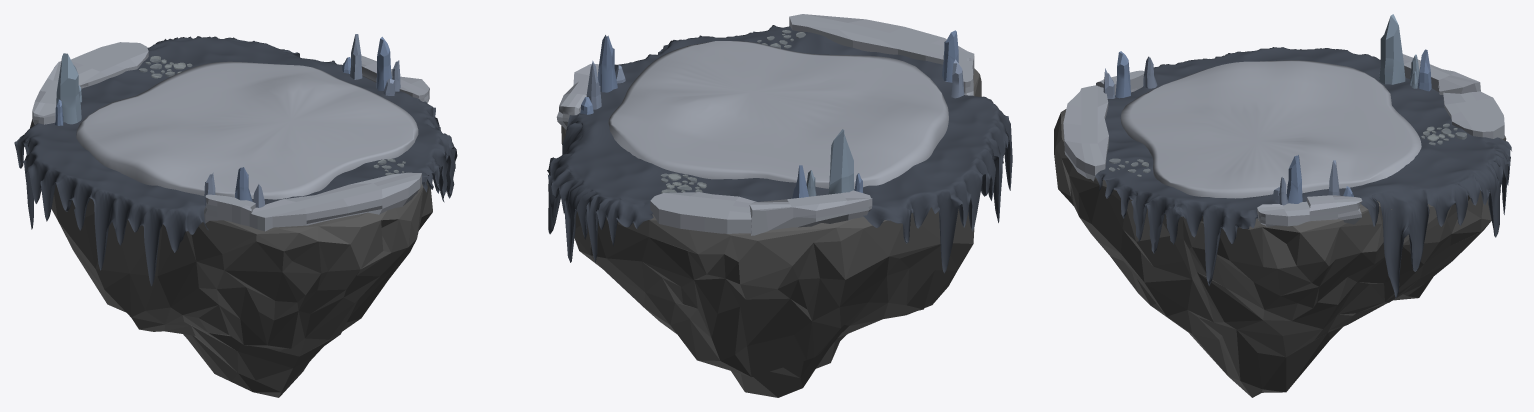
Rendered from SnowIsland_v1.fbx.
The picture shows the model from 3 angles, left to right: view 1: azimuth 30°, elevation 25°; view 2: azimuth 150°, elevation 25°; view 3: azimuth 270°, elevation 25°; orthographic projection. The views are drawn at different scales.
Visible parts, largest first — view 1: SNOWISLAND; view 2: SNOWISLAND; view 3: SNOWISLAND.
Part boxes in pixels (left/top/right/bottom): SNOWISLAND: left=14, top=34, right=457, bottom=397; SNOWISLAND: left=547, top=14, right=1012, bottom=397; SNOWISLAND: left=1054, top=14, right=1511, bottom=397.
Size of the model in its own units: 29.52 by 23.89 by 31.86.
